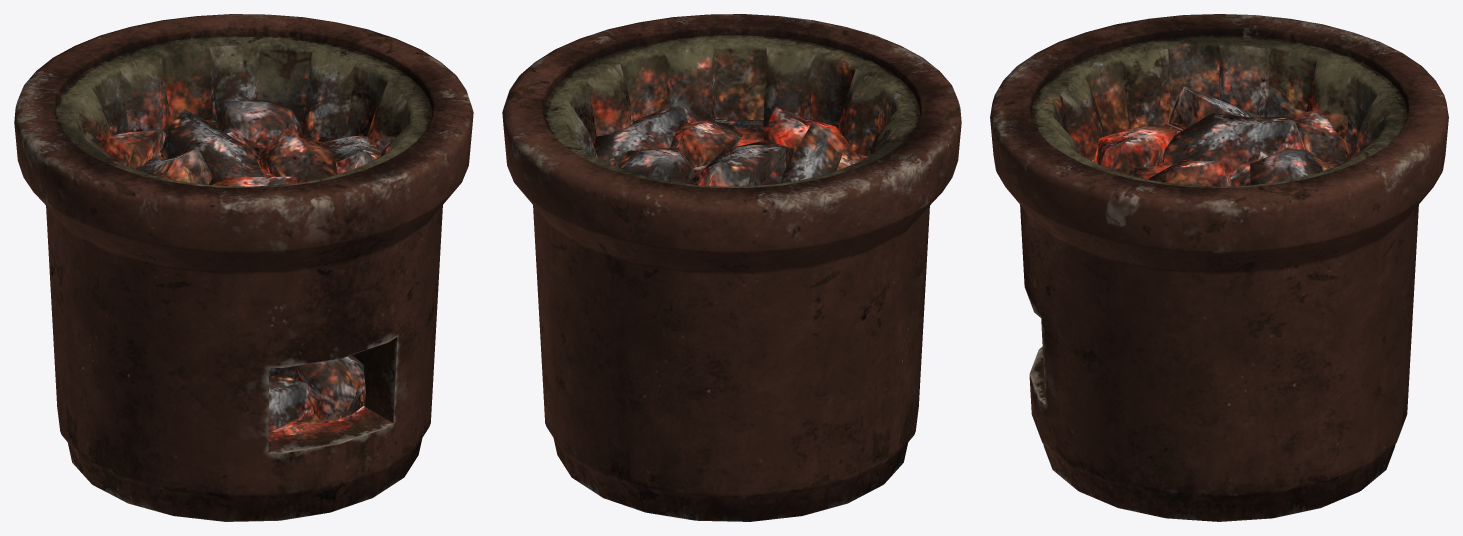
File: dapurArang.FBX
3 renders of one model, left to right at view 1: azimuth 30°, elevation 25°; view 2: azimuth 150°, elevation 25°; view 3: azimuth 270°, elevation 25°, orthographic.
Parts seen in each view (by area): view 1: dapurArang; view 2: dapurArang; view 3: dapurArang.
Boxes of the visible parts, x1=… form: dapurArang: x1=14, y1=14, x2=473, y2=521; dapurArang: x1=502, y1=14, x2=961, y2=521; dapurArang: x1=990, y1=14, x2=1448, y2=521.
Size of the model in its own units: 32.47 by 26.65 by 32.47.
